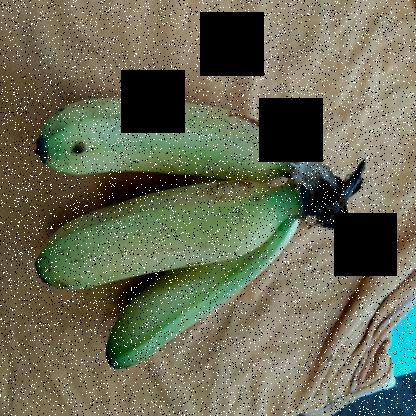ripe: (30, 172, 284, 306), (32, 79, 311, 195)
